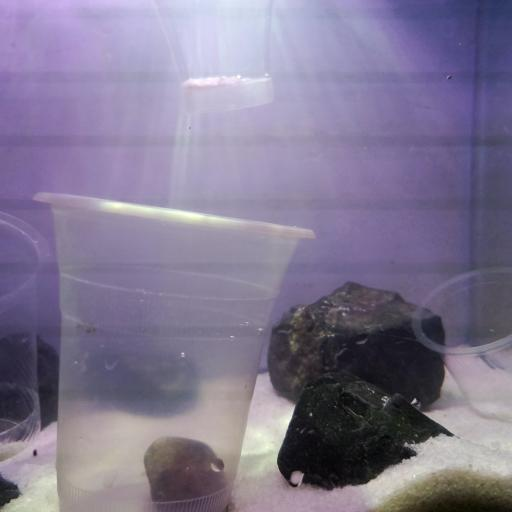plastic_cup: (33, 190, 318, 512), (409, 266, 512, 424), (148, 0, 276, 117), (0, 210, 54, 462)
